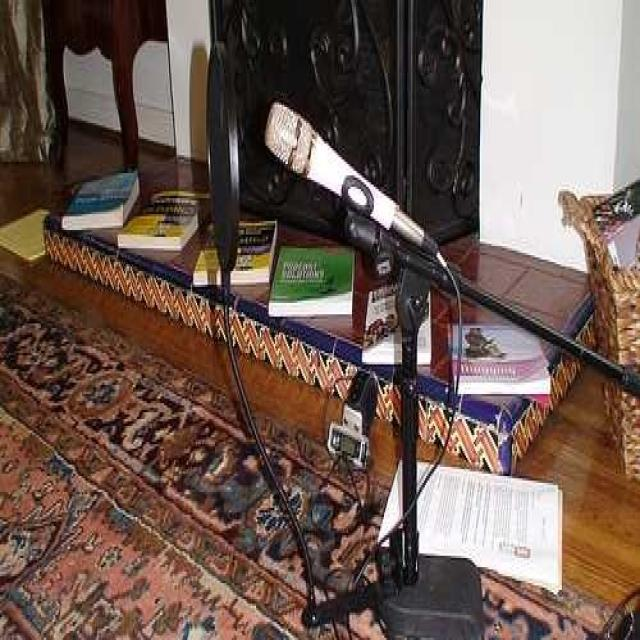microphone: (264, 101, 440, 267)
